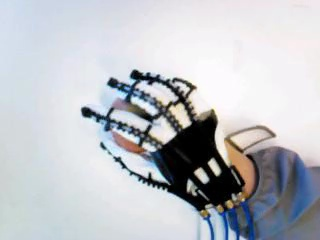apple: (106, 89, 165, 149)
hand: (82, 73, 247, 201)
